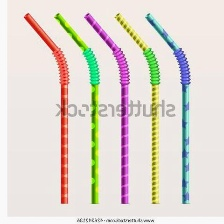drinking_straw: (15, 9, 73, 208), (81, 10, 134, 209), (142, 8, 193, 207)
